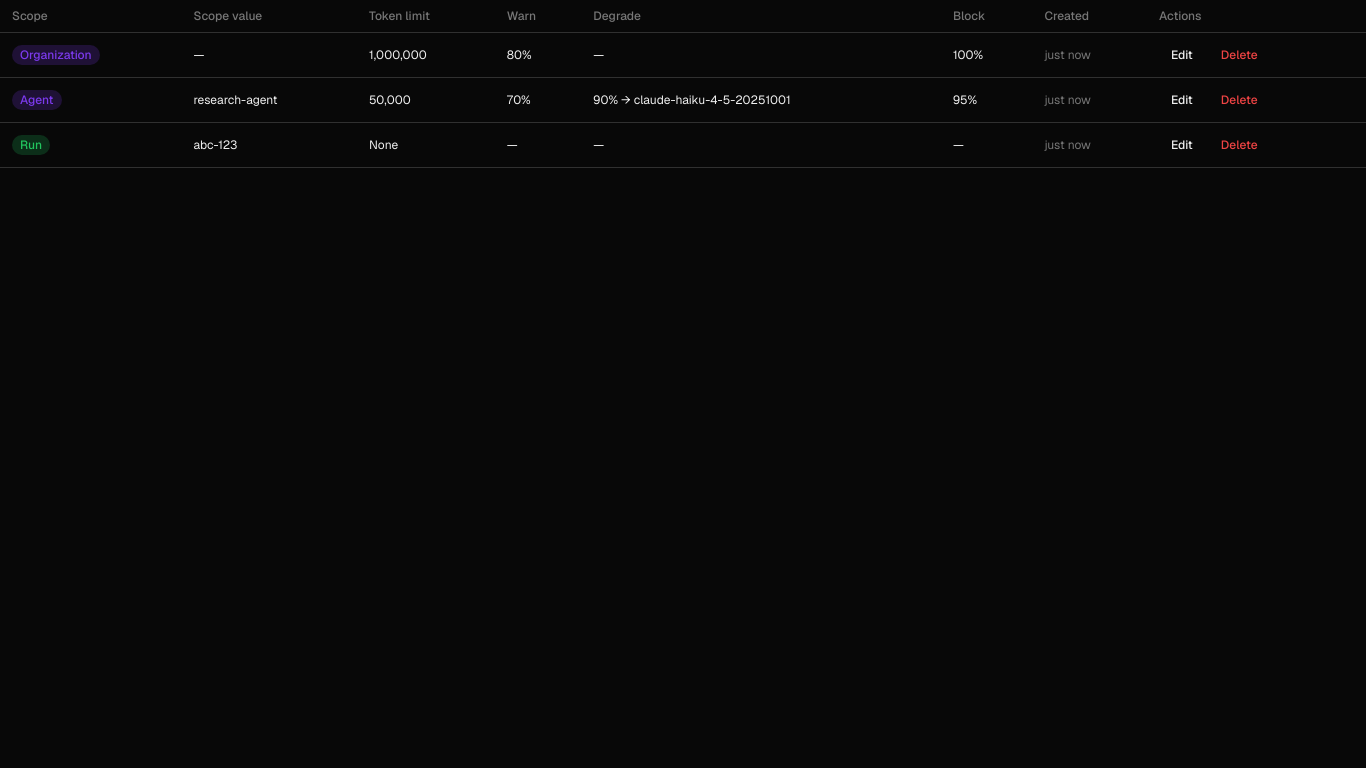
Scenario: PolicyTable › delete button opens confirmation dialog
Click the button "Delete" in the row of "Organization": point(1239, 55) [1209, 41, 1270, 69]
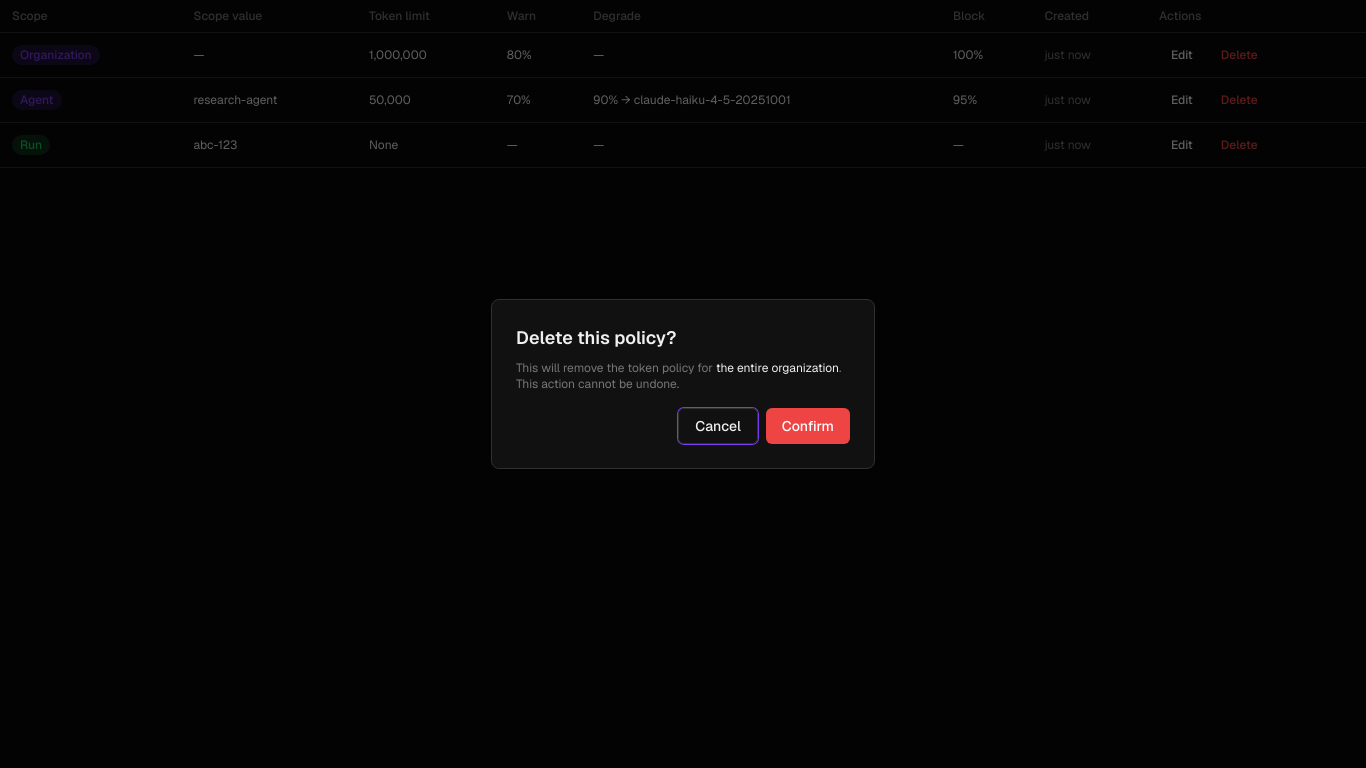
Result: the heading "Delete this policy?" is shown at [516, 326, 676, 349]
Result: the button "Confirm" is shown at [766, 408, 850, 444]
Result: the button "Cancel" is shown at [678, 408, 758, 444]
